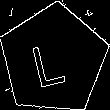L_N: (33, 31, 74, 88)
